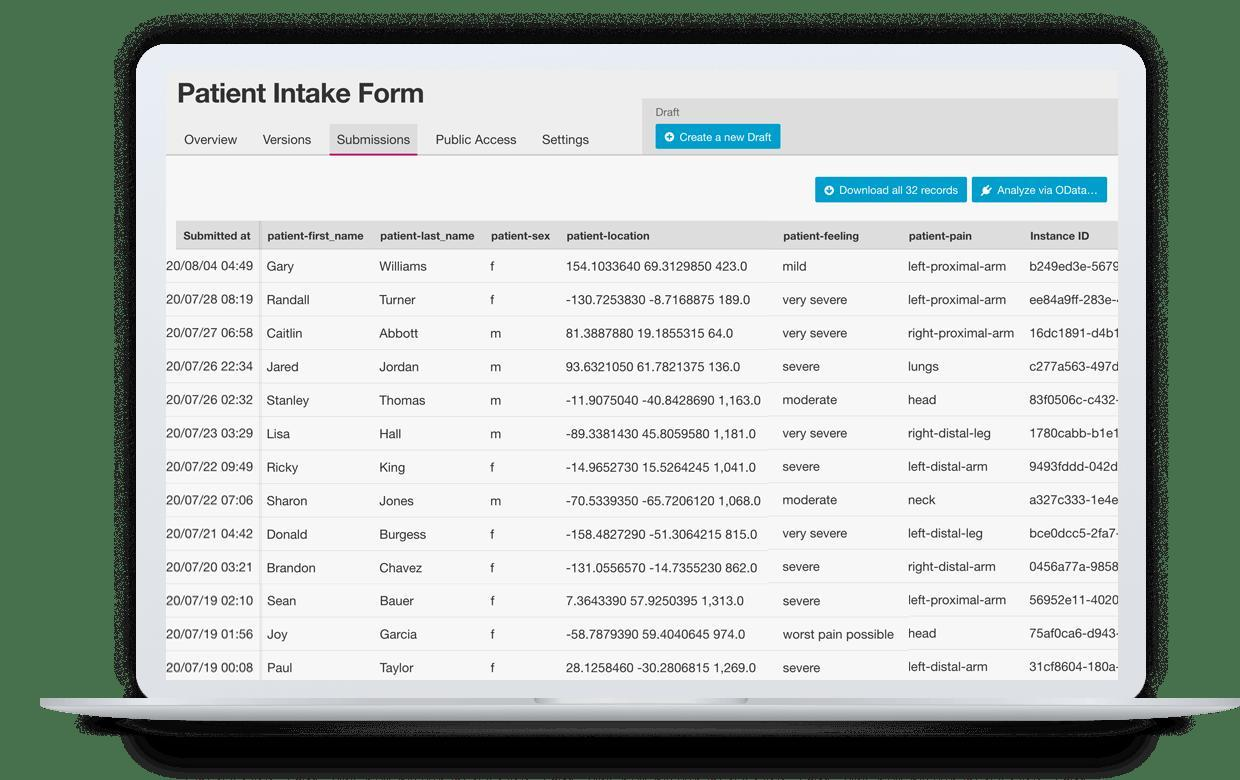button: (818, 179, 968, 202), (972, 178, 1109, 203), (656, 127, 783, 148), (330, 124, 417, 154)
label: (655, 106, 686, 119)
table: (167, 223, 1117, 684)
